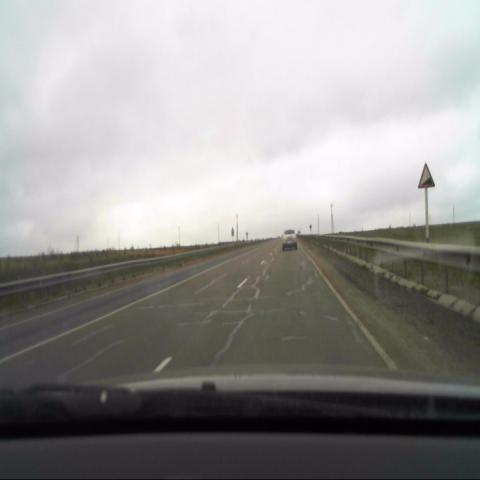1_14: (418, 162, 435, 188)
